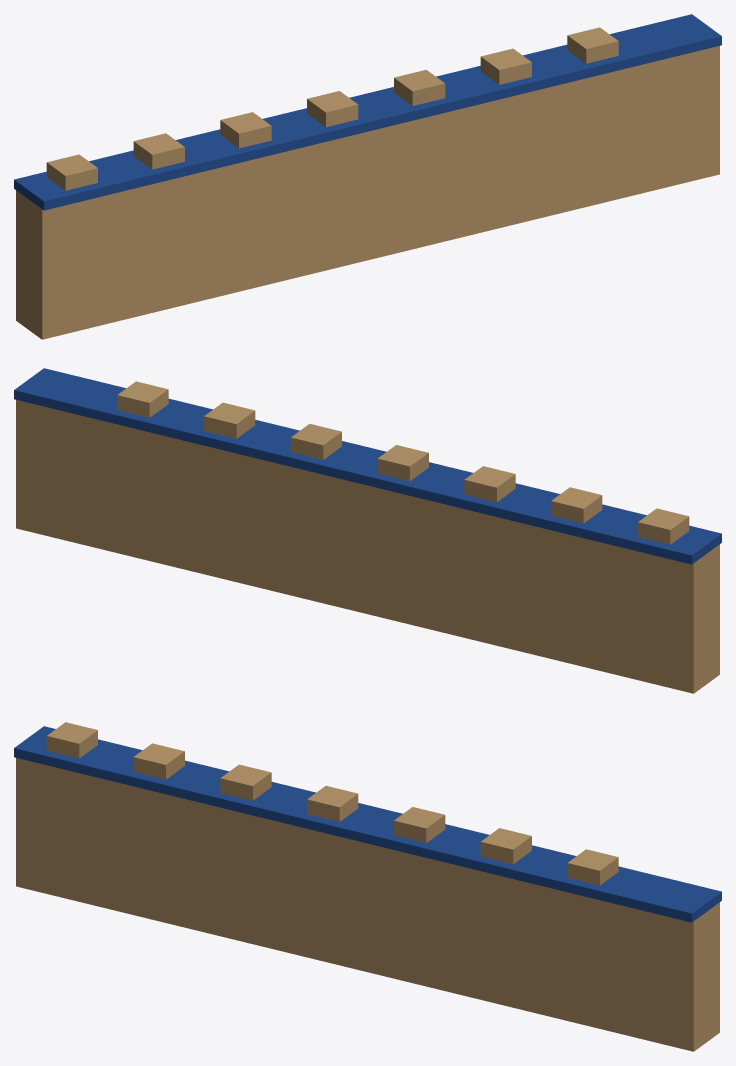
Rendered from gnoll_wall_broken.glb.
3 views of the same model, one above another, from view 1: azimuth 30°, elevation 25°; view 2: azimuth 150°, elevation 25°; view 3: azimuth 330°, elevation 25° (orthographic).
Visible parts, largest first — view 1: gnoll_wall_piece10, gnoll_wall_piece0, gnoll_wall_piece7, gnoll_wall_piece8, gnoll_wall_piece6, gnoll_wall_piece13, gnoll_wall_piece5, gnoll_wall_piece2, gnoll_wall_piece3, gnoll_wall_piece12, gnoll_wall_piece9, gnoll_wall_piece4 (+2 smaller); view 2: gnoll_wall_piece5, gnoll_wall_piece1, gnoll_wall_piece4, gnoll_wall_piece6, gnoll_wall_piece10, gnoll_wall_piece8, gnoll_wall_piece7, gnoll_wall_piece3, gnoll_wall_piece12, gnoll_wall_piece0, gnoll_wall_piece13, gnoll_wall_piece9 (+2 smaller); view 3: gnoll_wall_piece10, gnoll_wall_piece0, gnoll_wall_piece7, gnoll_wall_piece8, gnoll_wall_piece6, gnoll_wall_piece13, gnoll_wall_piece2, gnoll_wall_piece3, gnoll_wall_piece12, gnoll_wall_piece9, gnoll_wall_piece5, gnoll_wall_piece4 (+2 smaller).
Boxes of the visible parts, left/top/right/bottom form: gnoll_wall_piece10: left=564, top=14, right=721, bottom=187; gnoll_wall_piece0: left=216, top=122, right=395, bottom=296; gnoll_wall_piece7: left=38, top=133, right=201, bottom=282; gnoll_wall_piece8: left=380, top=41, right=603, bottom=175; gnoll_wall_piece6: left=297, top=84, right=493, bottom=227; gnoll_wall_piece13: left=282, top=108, right=445, bottom=253; gnoll_wall_piece5: left=14, top=171, right=158, bottom=339; gnoll_wall_piece2: left=493, top=136, right=666, bottom=229; gnoll_wall_piece3: left=20, top=151, right=168, bottom=298; gnoll_wall_piece12: left=165, top=112, right=266, bottom=284; gnoll_wall_piece9: left=430, top=124, right=577, bottom=244; gnoll_wall_piece4: left=149, top=108, right=306, bottom=313; gnoll_wall_piece5: left=505, top=544, right=719, bottom=693; gnoll_wall_piece1: left=21, top=412, right=248, bottom=572; gnoll_wall_piece4: left=392, top=482, right=559, bottom=660; gnoll_wall_piece6: left=278, top=429, right=422, bottom=597; gnoll_wall_piece10: left=14, top=368, right=173, bottom=529; gnoll_wall_piece8: left=151, top=385, right=331, bottom=531; gnoll_wall_piece7: left=504, top=487, right=721, bottom=561; gnoll_wall_piece3: left=500, top=520, right=719, bottom=606; gnoll_wall_piece12: left=439, top=469, right=559, bottom=574; gnoll_wall_piece0: left=352, top=466, right=527, bottom=628; gnoll_wall_piece13: left=339, top=450, right=458, bottom=610; gnoll_wall_piece9: left=261, top=542, right=349, bottom=609; gnoll_wall_piece10: left=544, top=849, right=721, bottom=1051; gnoll_wall_piece0: left=190, top=782, right=369, bottom=972; gnoll_wall_piece7: left=14, top=729, right=229, bottom=888; gnoll_wall_piece8: left=404, top=807, right=584, bottom=942; gnoll_wall_piece6: left=313, top=785, right=467, bottom=970; gnoll_wall_piece13: left=277, top=795, right=418, bottom=980; gnoll_wall_piece2: left=466, top=944, right=639, bottom=1038; gnoll_wall_piece3: left=16, top=722, right=142, bottom=901; gnoll_wall_piece12: left=139, top=764, right=296, bottom=892; gnoll_wall_piece9: left=403, top=914, right=550, bottom=995; gnoll_wall_piece5: left=16, top=726, right=132, bottom=912; gnoll_wall_piece4: left=122, top=788, right=315, bottom=928.
Bounding box in the file's own units: 6.25 × 1.36 × 0.48.
